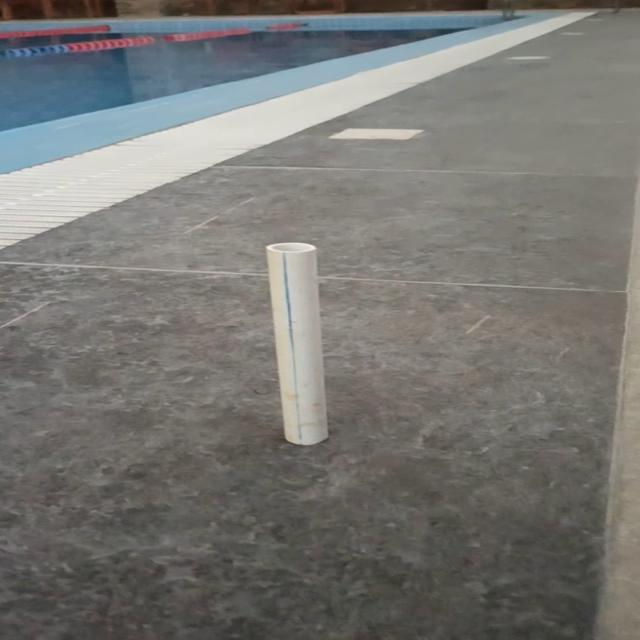Cube: (263, 241, 330, 445)
